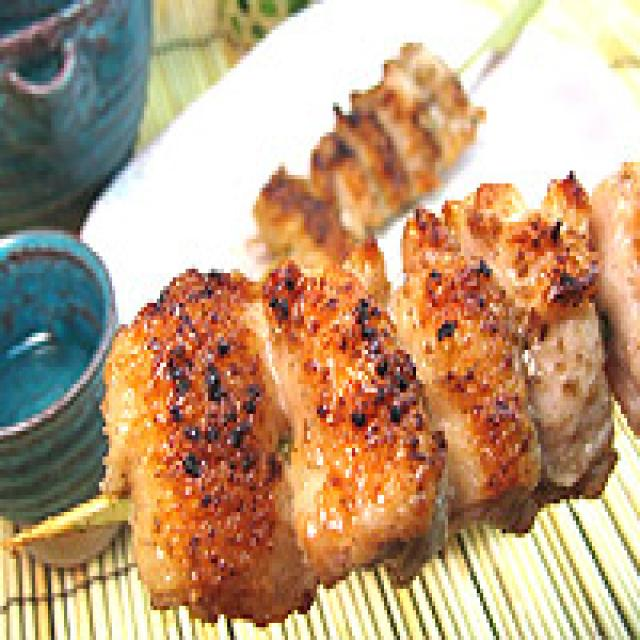烧串烤肉: (99, 141, 640, 640)
